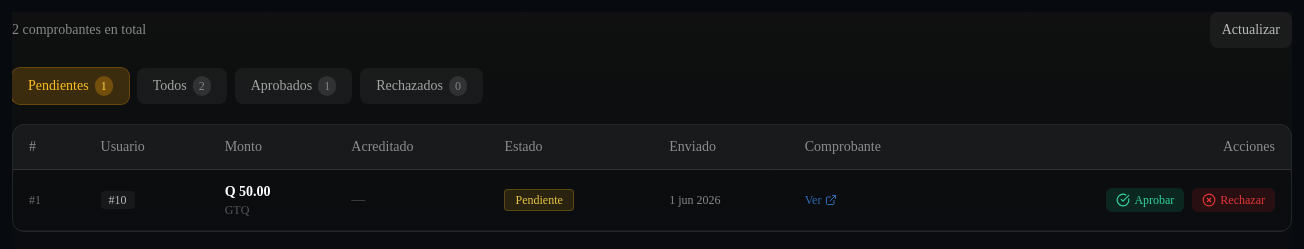
Test case: BankTransfersTab – with pending transfers › switches to approved tab and shows only approved transfer
Expected: the text "#1" is shown, [13,170,84,230]
Click the button "Aprobados 1": click(293, 86) [235,68,352,104]
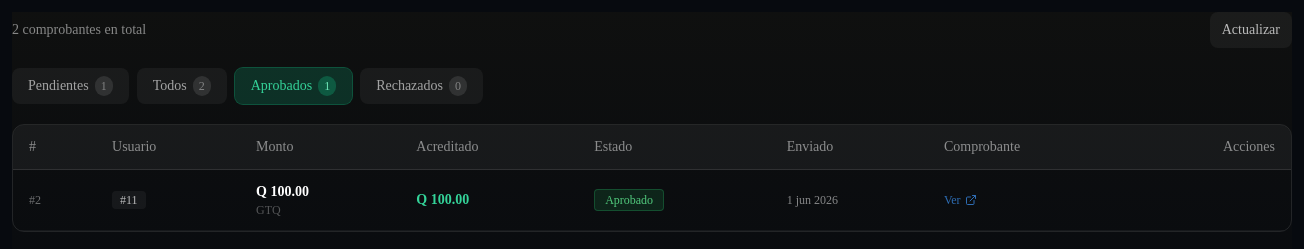
Now the text "#2" is shown, box [13,170,96,230]
